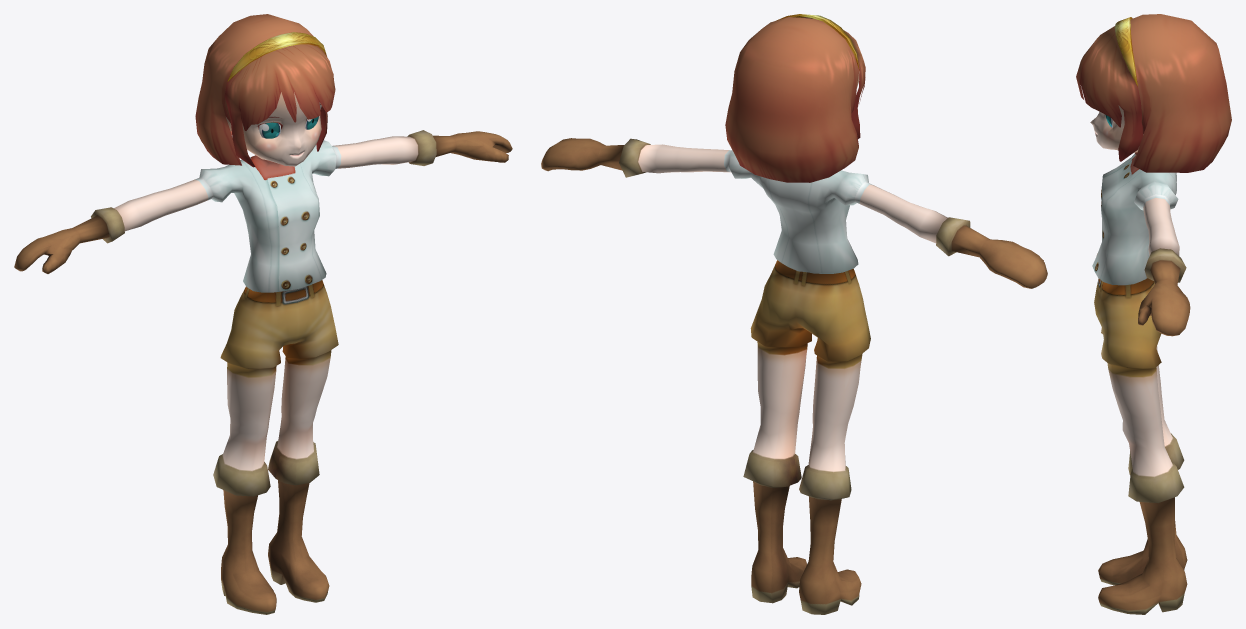
The model's file is character.glb.
3 renders of one model, left to right at view 1: azimuth 30°, elevation 25°; view 2: azimuth 150°, elevation 25°; view 3: azimuth 270°, elevation 25°, orthographic.
Parts seen in each view (by area): view 1: character_body, character_hair; view 2: character_body, character_hair; view 3: character_body, character_hair.
Boxes of the visible parts, x1,y1,x2,y2 form: character_body: [14, 92, 512, 614]; character_hair: [195, 14, 335, 167]; character_body: [541, 71, 1047, 614]; character_hair: [725, 14, 865, 182]; character_body: [1090, 105, 1190, 614]; character_hair: [1076, 14, 1231, 172].
Size of the model in its own units: 1.49 by 1.63 by 0.4031.
Materials: 1 (1 with a texture image).
